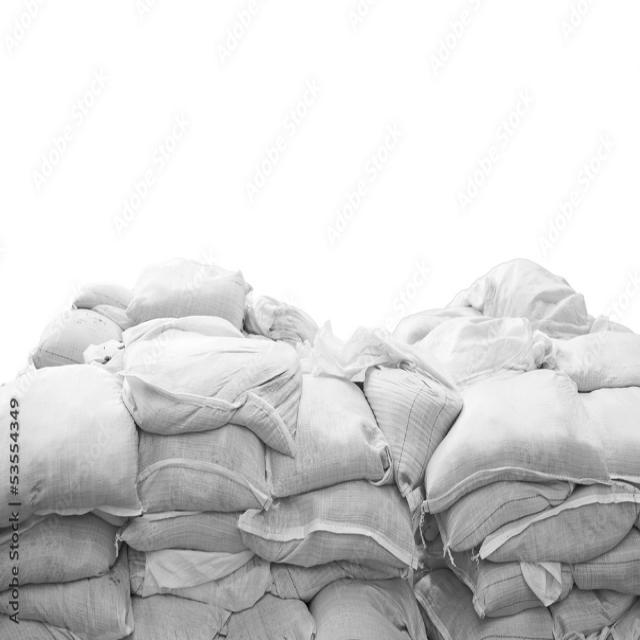sack: (424, 366, 612, 511), (121, 313, 302, 457), (1, 362, 142, 529), (238, 481, 418, 582), (266, 373, 394, 497), (364, 341, 462, 495), (478, 482, 640, 563), (0, 541, 130, 637), (138, 424, 272, 511), (436, 478, 574, 552), (414, 568, 554, 640), (124, 258, 252, 328), (0, 515, 120, 589), (132, 592, 315, 640), (130, 549, 271, 610), (447, 553, 573, 616), (311, 575, 428, 640), (535, 329, 640, 392), (580, 386, 640, 481), (120, 512, 242, 551), (548, 590, 636, 640)
